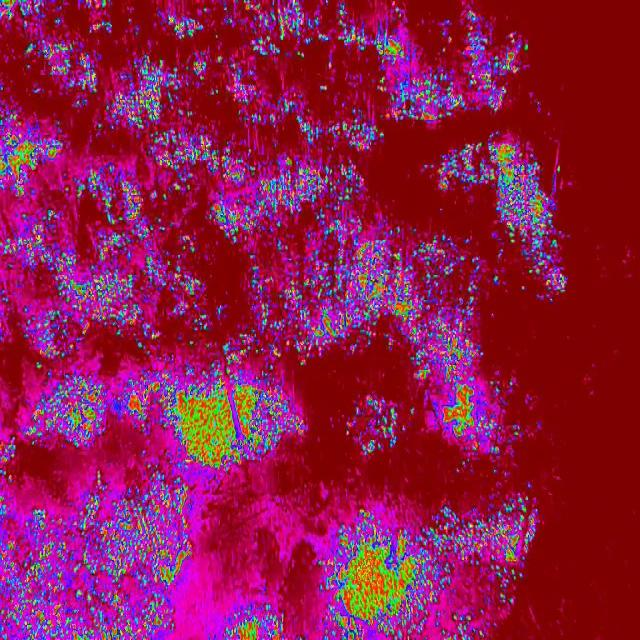fire: (1, 0, 300, 640), (301, 486, 541, 640), (409, 228, 507, 458), (300, 0, 380, 228), (381, 0, 507, 122), (299, 230, 411, 361), (437, 138, 562, 203), (499, 202, 568, 298), (352, 393, 406, 458), (506, 29, 534, 75)
